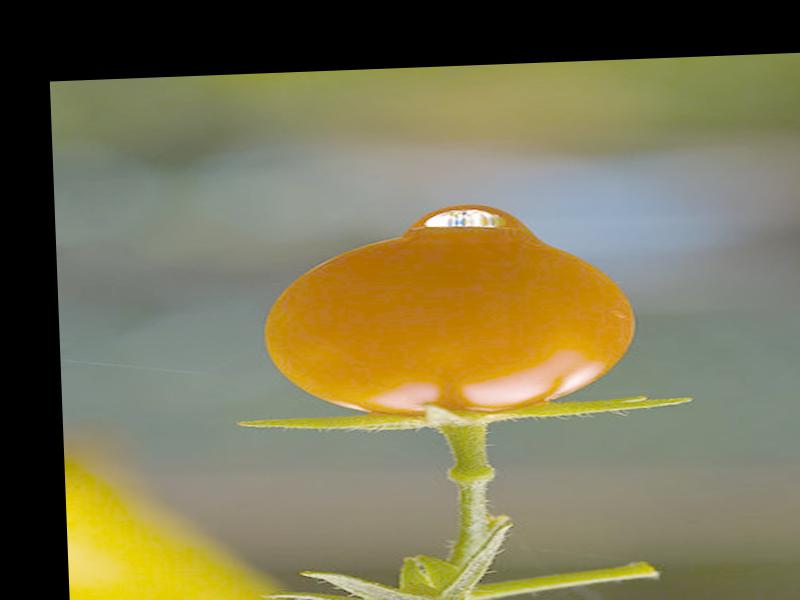Tomato: (263, 227, 641, 422)
